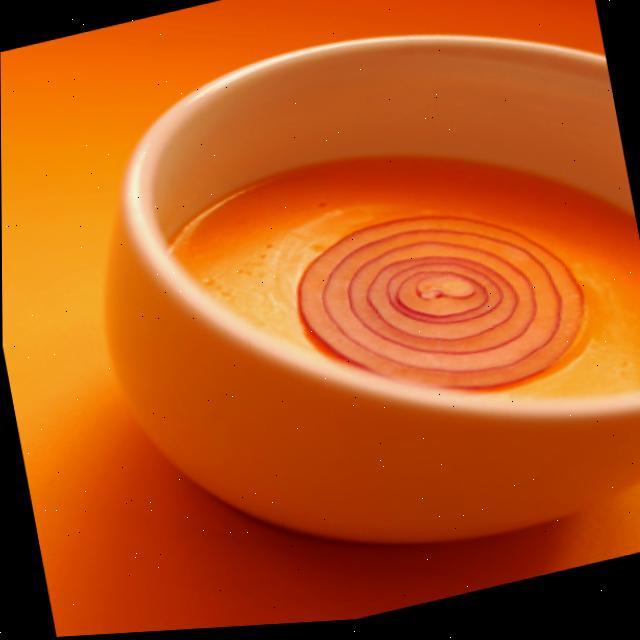汤锅炖物: (42, 0, 640, 638)
